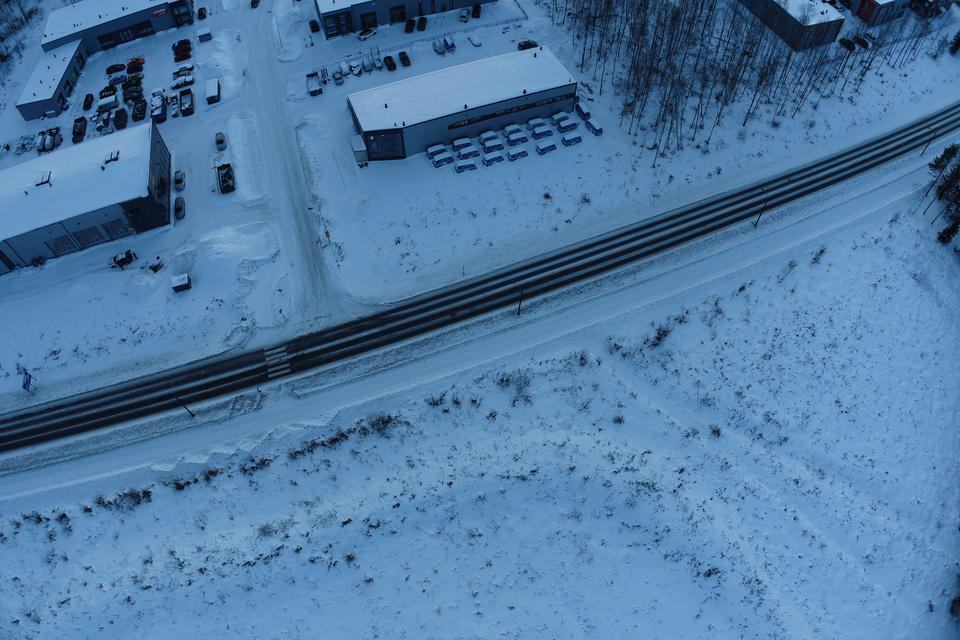intersection: (252, 274, 403, 416)
